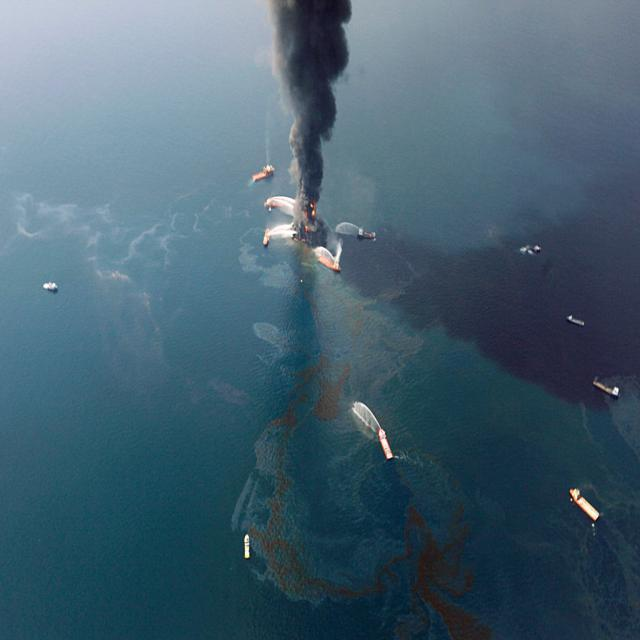truecolor: (252, 444, 404, 602), (406, 505, 491, 640), (266, 363, 351, 440)
